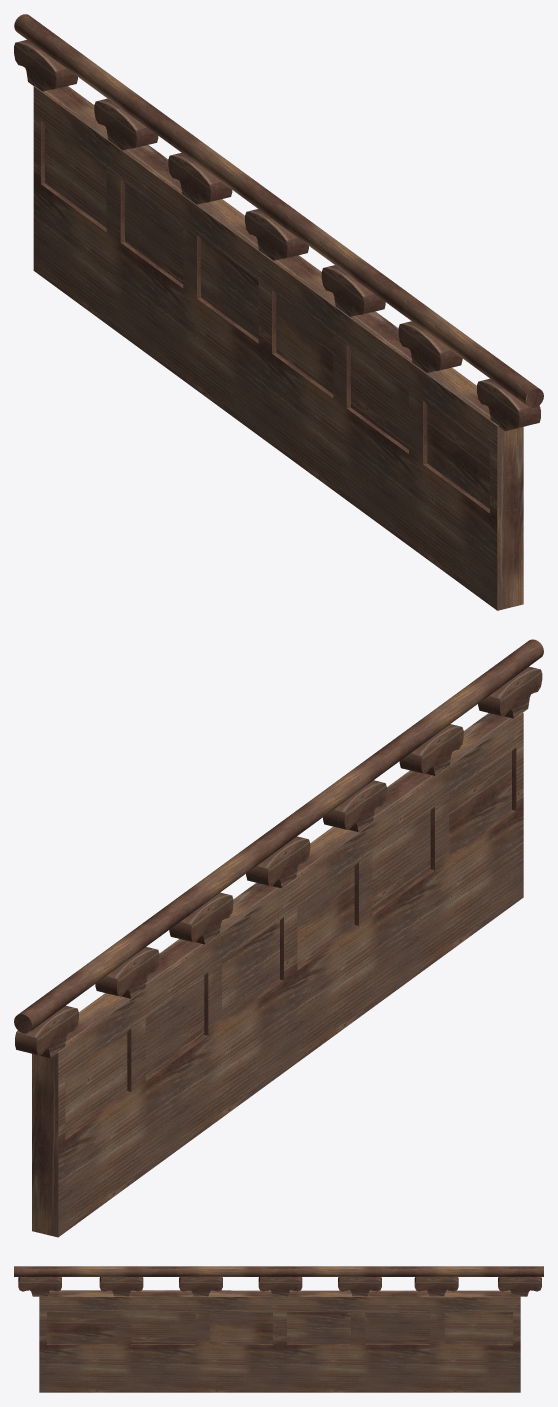
Rendered from SM_M_Handrail_10.fbx.
3 renders of one model, top to bottom at view 1: azimuth 30°, elevation 25°; view 2: azimuth 150°, elevation 25°; view 3: azimuth 270°, elevation 25°, orthographic. The views are drawn at different scales.
Parts seen in each view (by area): view 1: SM_M_Handrail_10; view 2: SM_M_Handrail_10; view 3: SM_M_Handrail_10.
Part boxes in pixels (<box>): SM_M_Handrail_10: <box>14,14,543,610</box>; SM_M_Handrail_10: <box>14,639,543,1237</box>; SM_M_Handrail_10: <box>14,1266,543,1392</box>.
Size of the model in its own units: 8.79 by 291 by 74.24.
Materials: 1 (1 with a texture image).
